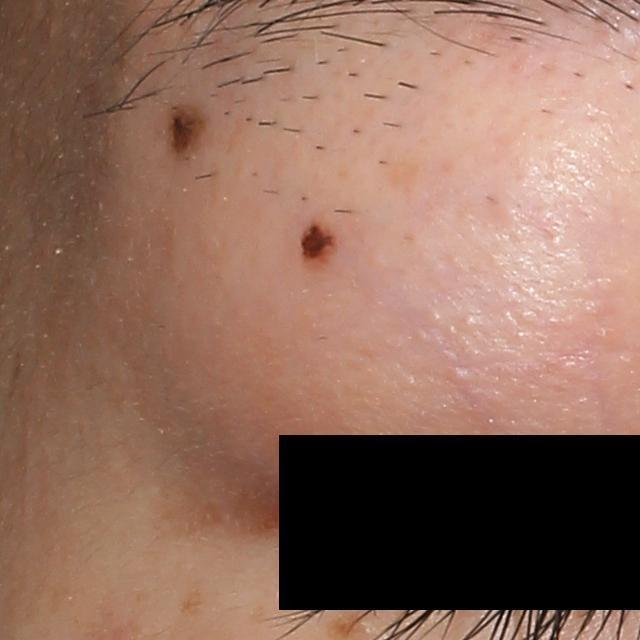nevus: (166, 105, 206, 166), (294, 220, 340, 264)
